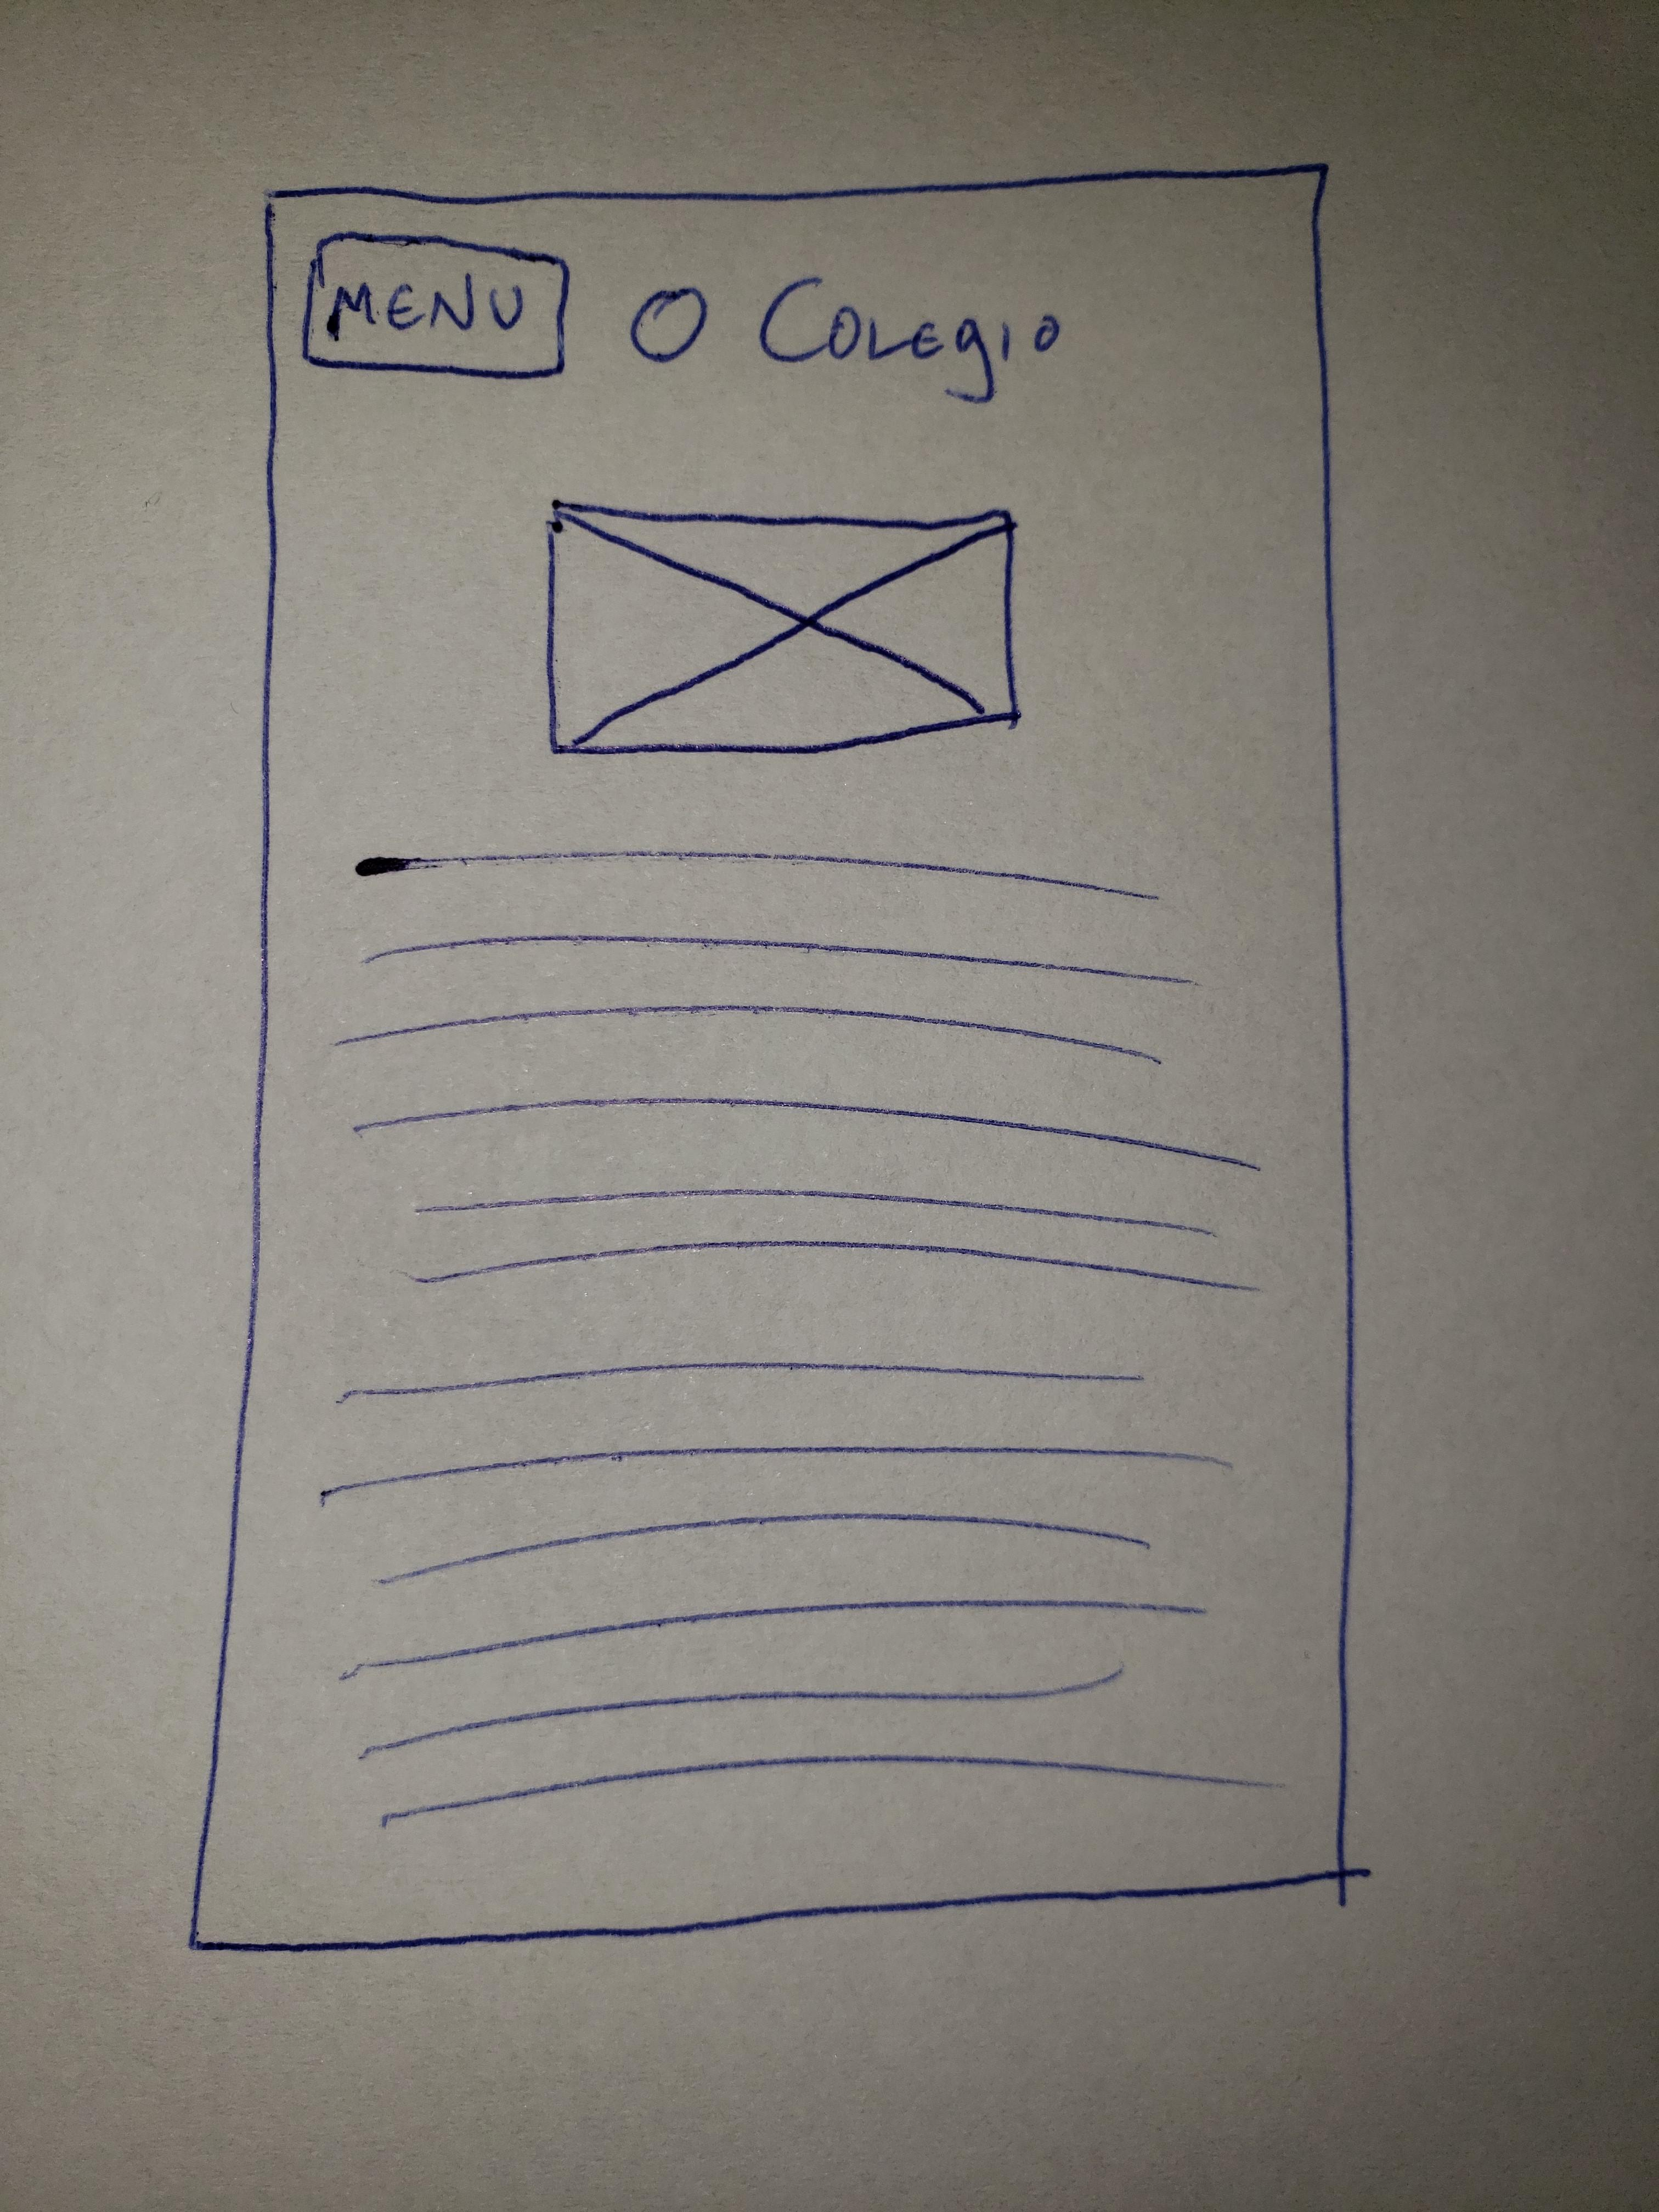Button: (298, 237, 572, 381)
Image: (545, 498, 1021, 756)
Label: (328, 855, 1263, 1831), (627, 277, 1061, 404)
Screen: (183, 165, 1352, 1952)
